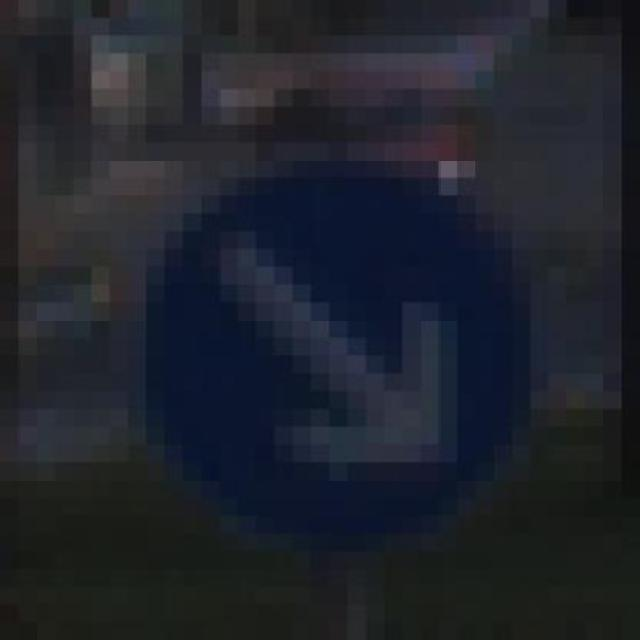Keep-Right: (110, 160, 567, 569)
